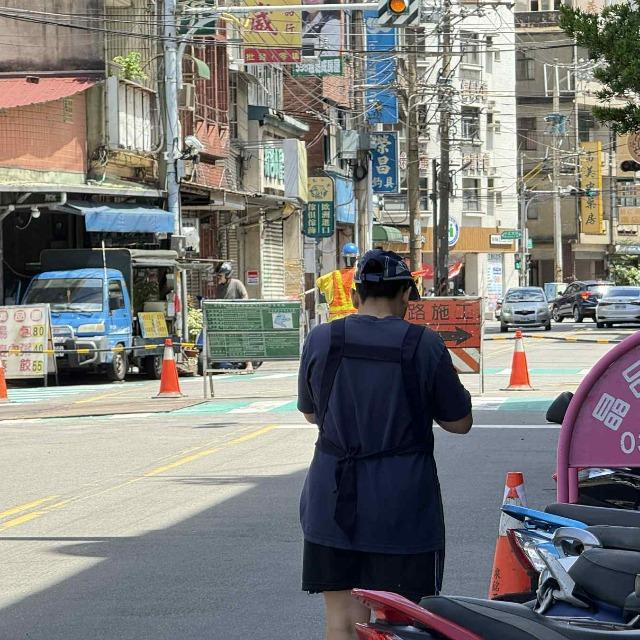NoHelmet: (353, 246, 422, 316)
NoVest: (289, 315, 465, 539)
